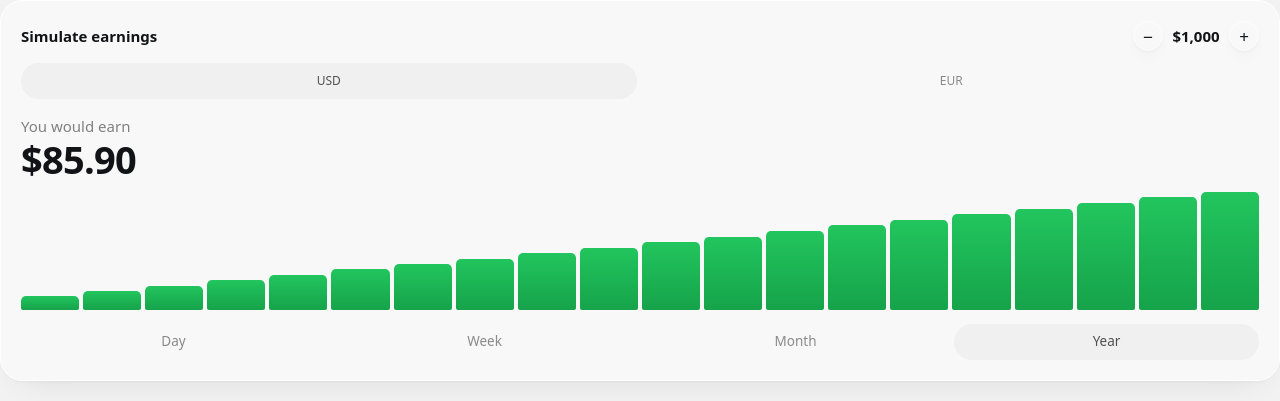
Test case: stepping the amount re-projects
The width and height of the screenshot is (1280, 401).
Click the button named "Increase" at (1244,36), box [1229, 21, 1259, 51]
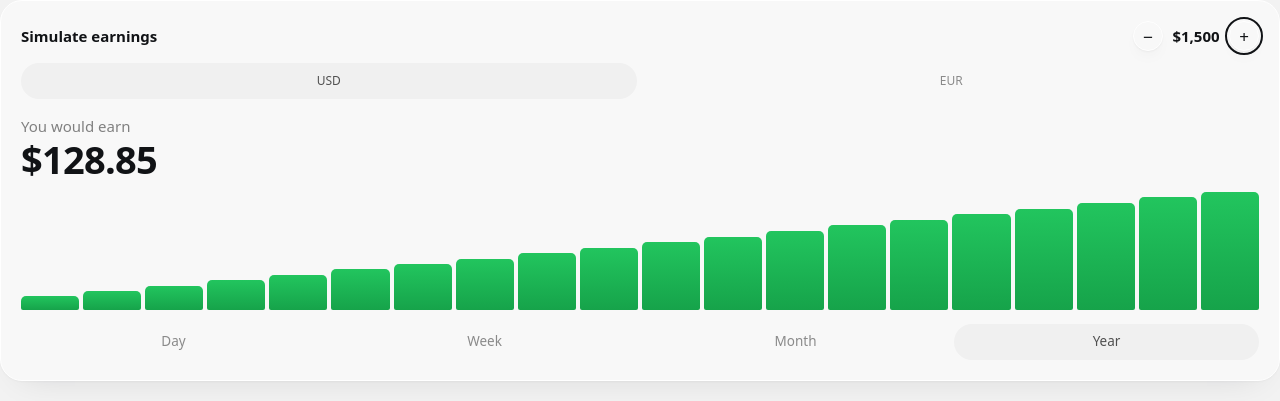
Result: the text with test id "amount" reads "$1,500" at [1170, 25, 1222, 47]
